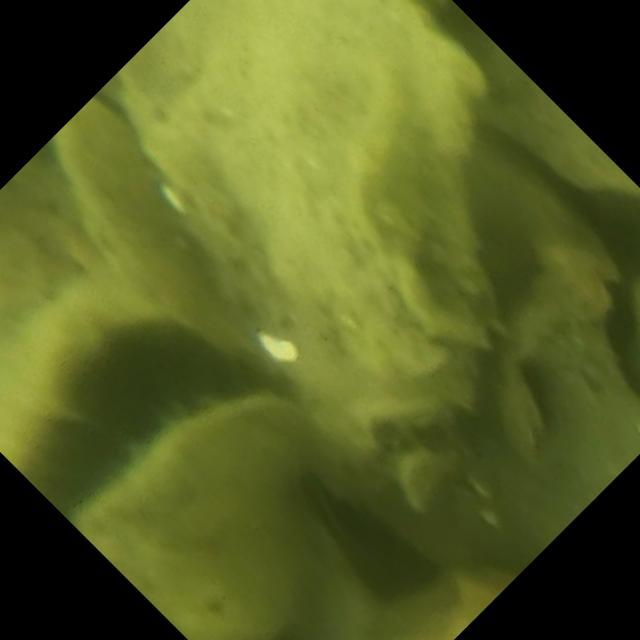Oyster- Indeterminate: (114, 0, 483, 504), (452, 313, 640, 574), (447, 1, 640, 198), (375, 565, 503, 640)
Oyster-Closed: (56, 99, 268, 377)
Oyster-Open: (0, 281, 303, 640)
